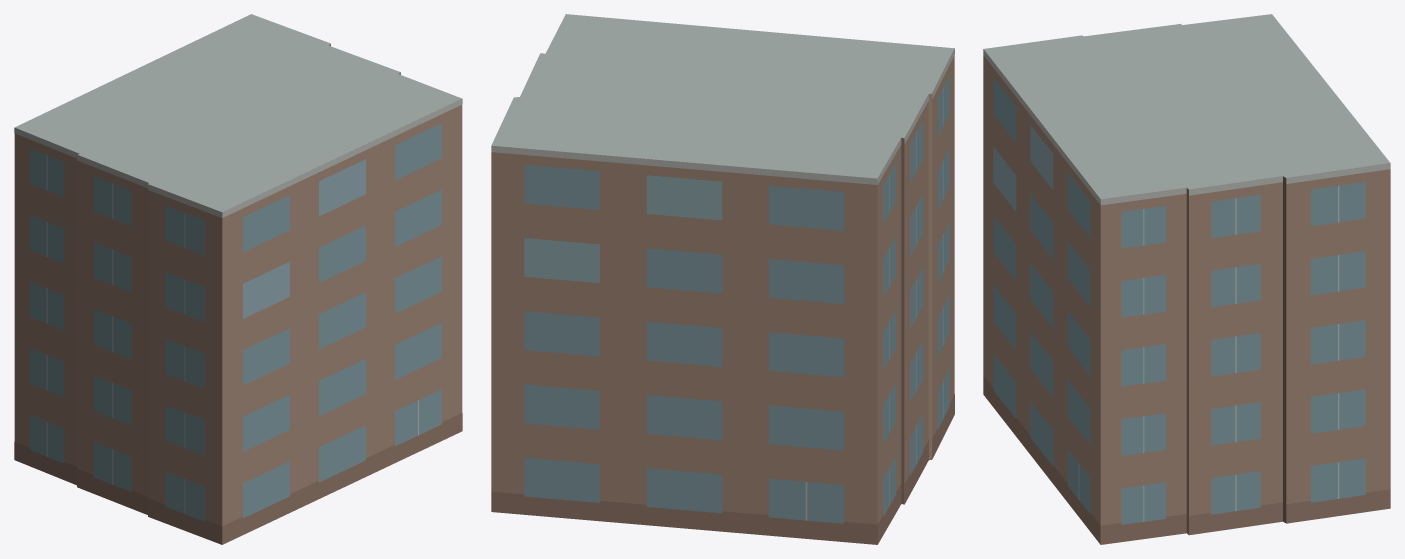
The model's file is survey-upis-32706337.glb.
3 renders of one model, left to right at view 1: azimuth 30°, elevation 25°; view 2: azimuth 150°, elevation 25°; view 3: azimuth 270°, elevation 25°, orthographic. The views are drawn at different scales.
Parts seen in each view (by area): view 1: survey-upis-32706337.tmp; view 2: survey-upis-32706337.tmp; view 3: survey-upis-32706337.tmp.
Boxes of the visible parts, x1,y1,x2,y2 form: survey-upis-32706337.tmp: (14, 14, 462, 544); survey-upis-32706337.tmp: (491, 14, 954, 544); survey-upis-32706337.tmp: (983, 14, 1390, 544).
Bounding box in the file's own units: 16 × 13.9 × 14.85.
